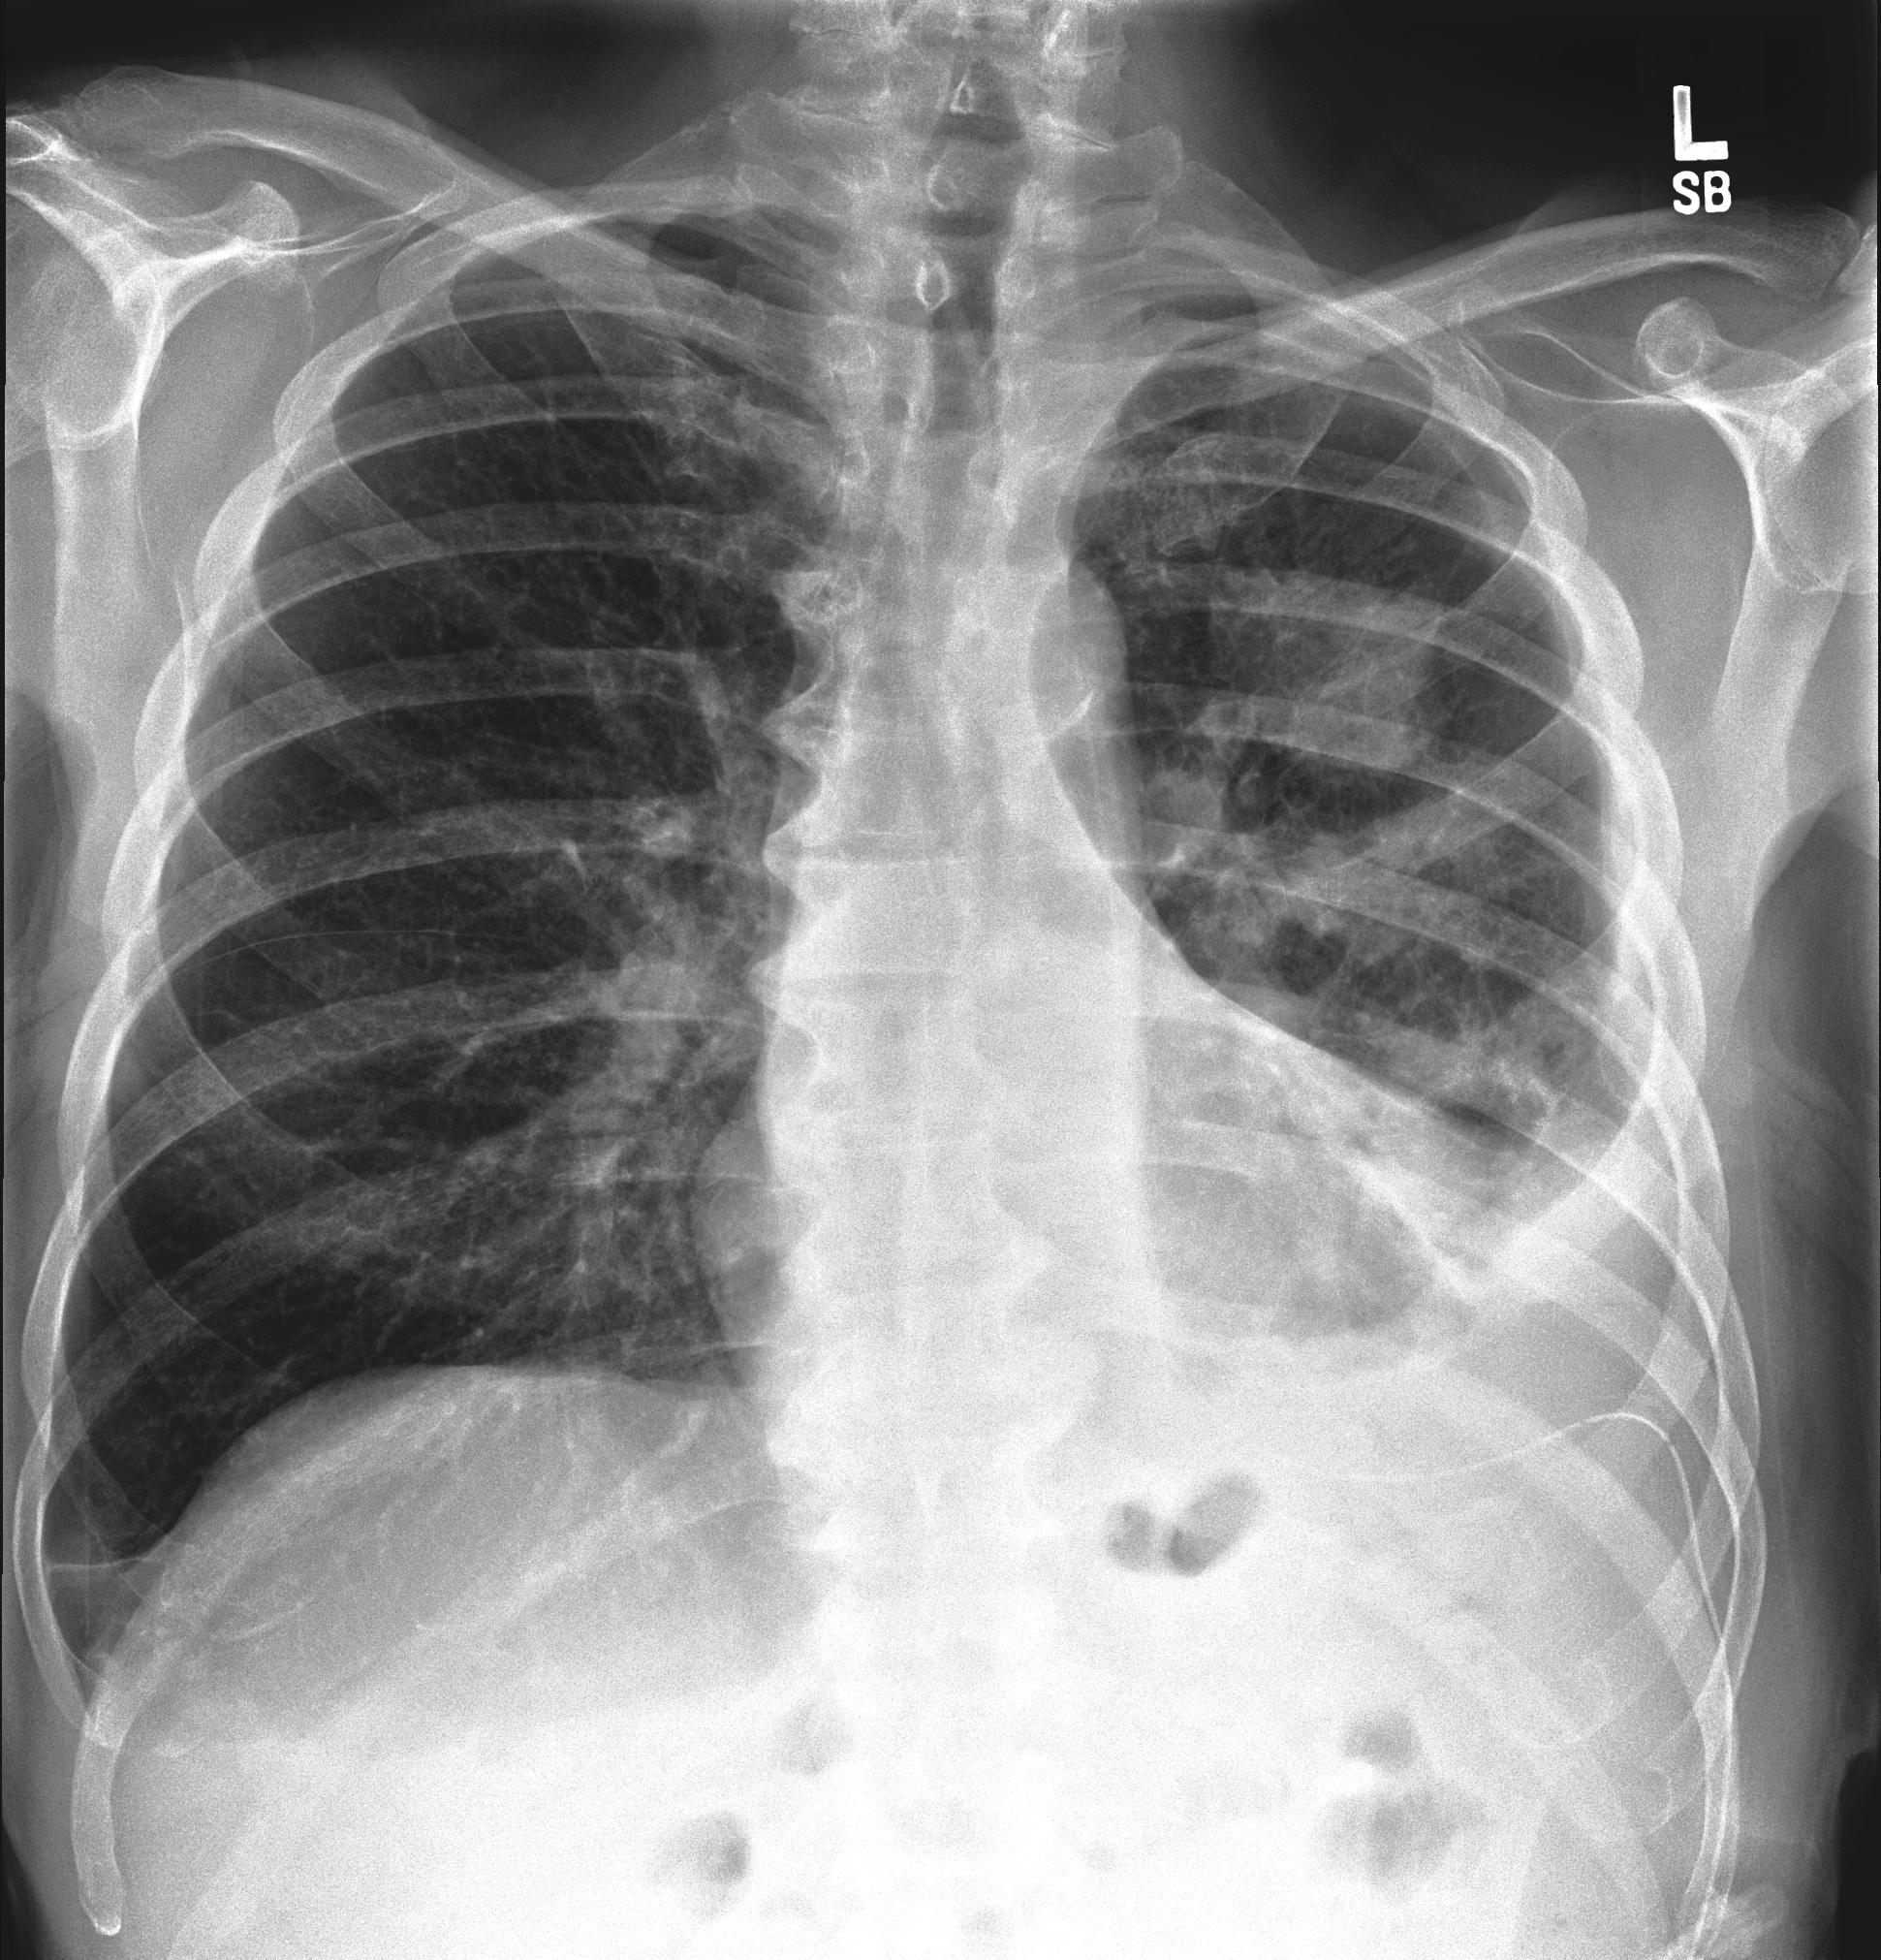Pleural Effusion: (1309, 1064, 1780, 1760)
